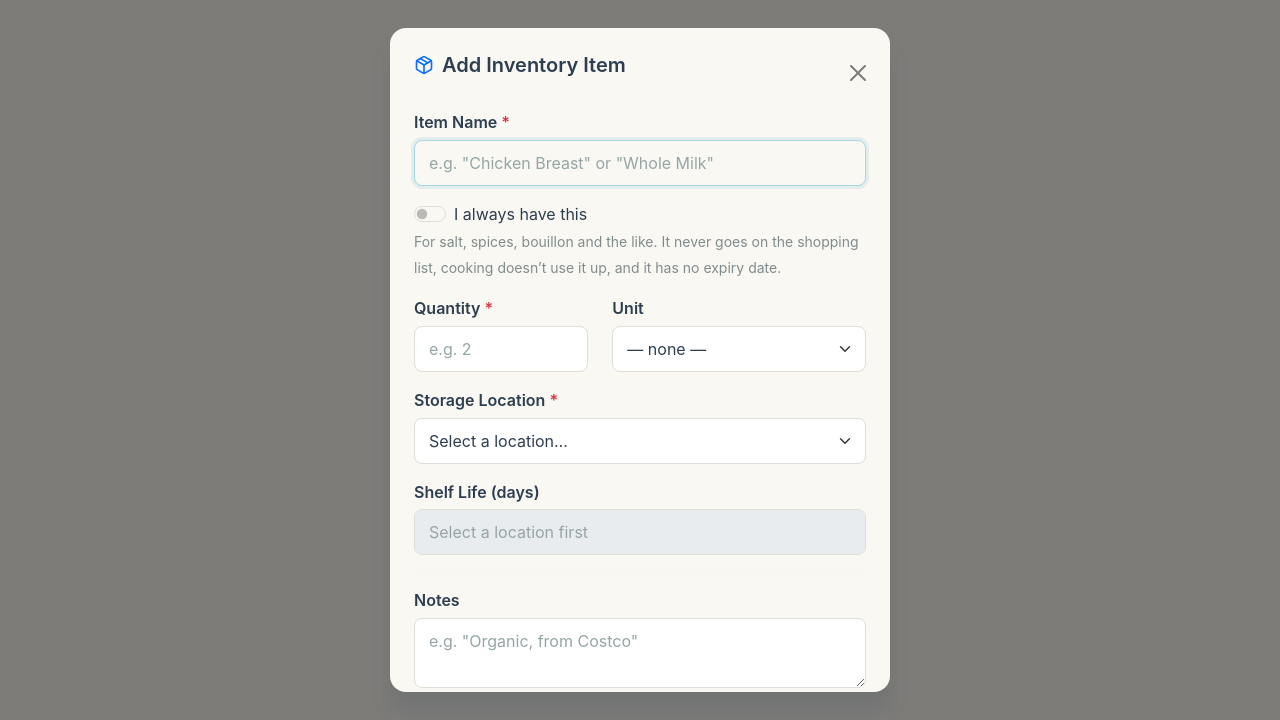
Test: AddItemModal shelf life › re-dates the item when the location changes
Type "Milk" into the field with placeholder "e.g. \"Chicken Breast\" or \"Whole Milk\"" at (640, 163), box left=414, top=140, right=866, bottom=186
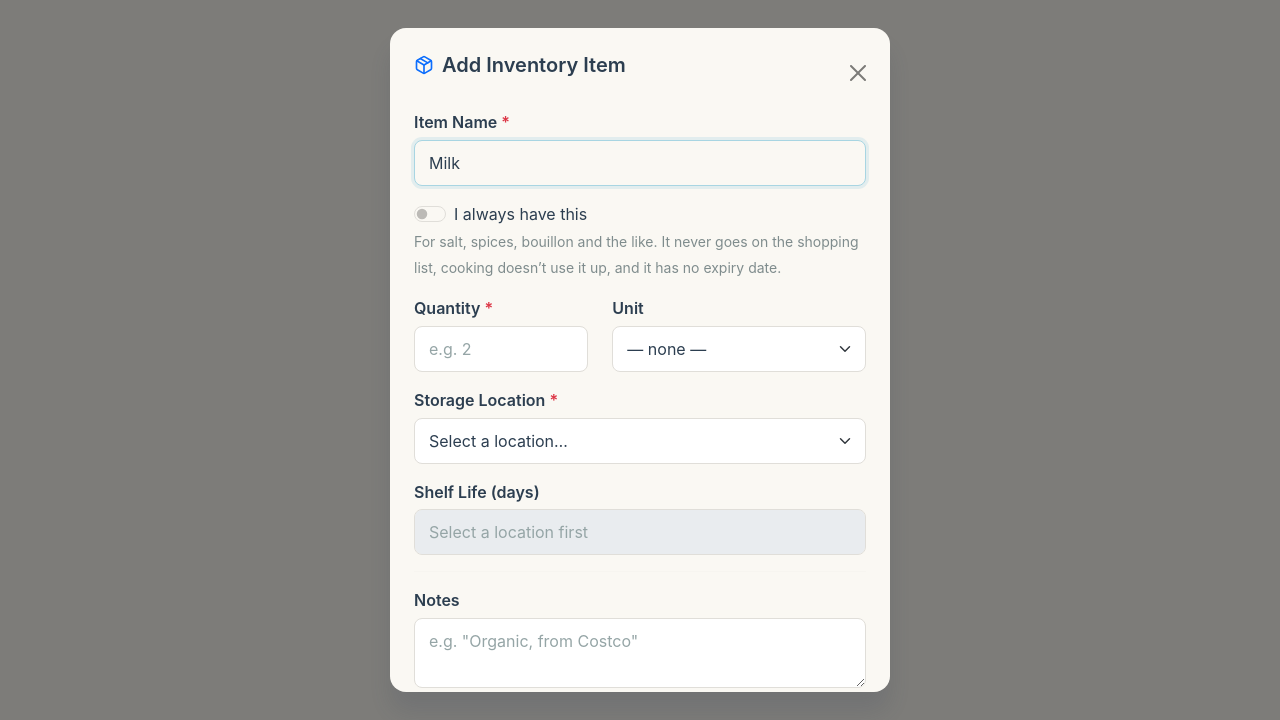
Select "🧊 Main Fridge (fridge)" in the dropdown labelled "Storage Location *" at (640, 441), box left=414, top=418, right=866, bottom=464
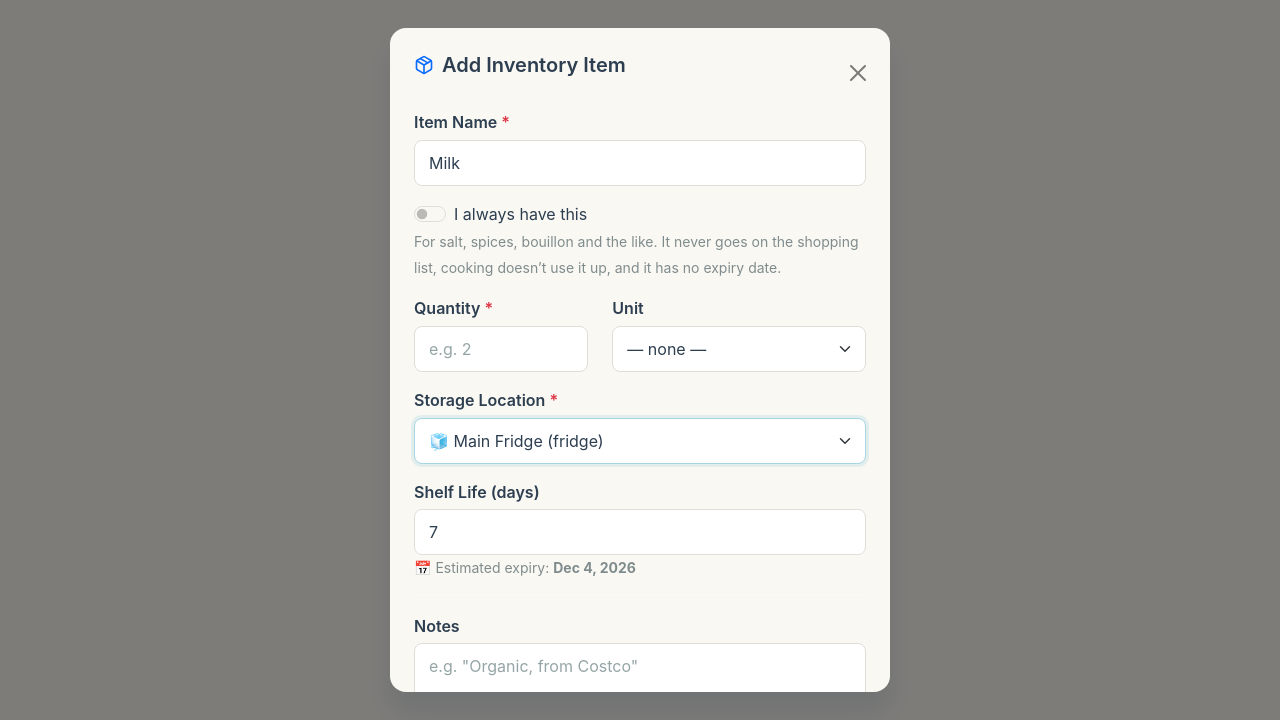
expect the number field labelled "Shelf Life (days)" holds "7": met, box left=414, top=509, right=866, bottom=555
Select "🧊 Freezer (freezer)" in the dropdown labelled "Storage Location *" at (640, 441), box left=414, top=418, right=866, bottom=464
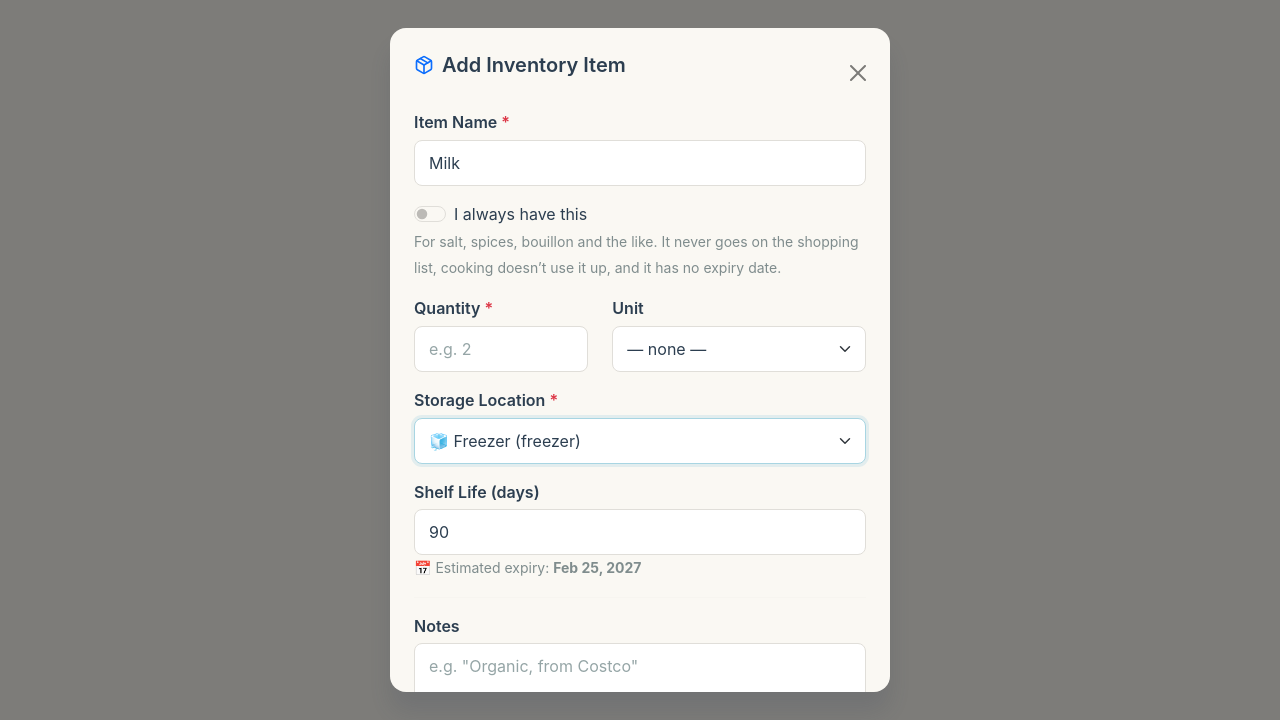
expect the number field labelled "Shelf Life (days)" holds "90": met, box left=414, top=509, right=866, bottom=555
